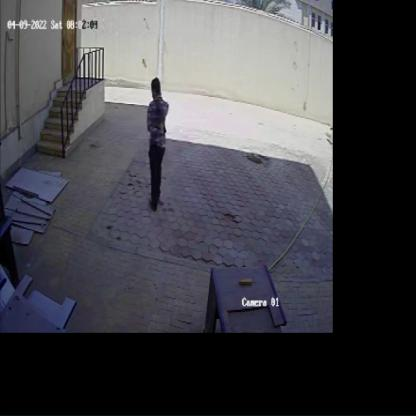handgun: (151, 94, 166, 140)
